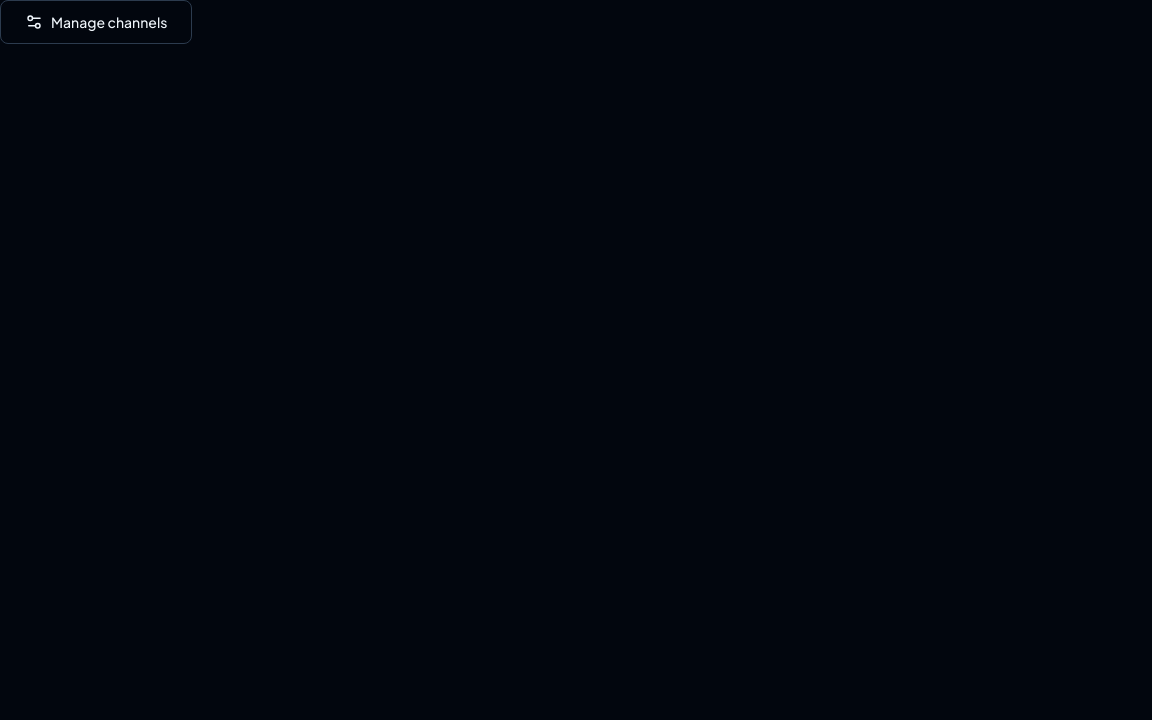
Test: admin community channel management › edits an existing channel without navigating until Open channel is chosen
Later steps or results of the test are not shown.
Step 1. Click the button "Manage channels" → (96, 22), box [0,0,192,44]
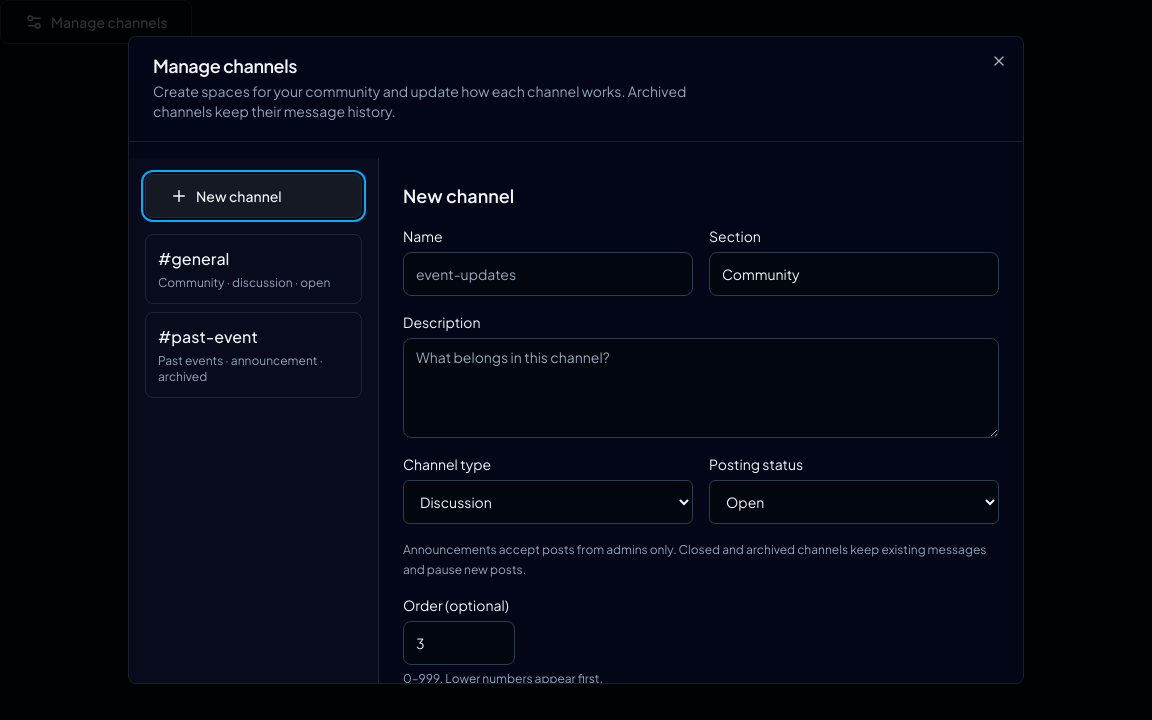
Step 2. Click the button with aria-label "Edit #general" → (254, 269), box [145,234,362,304]
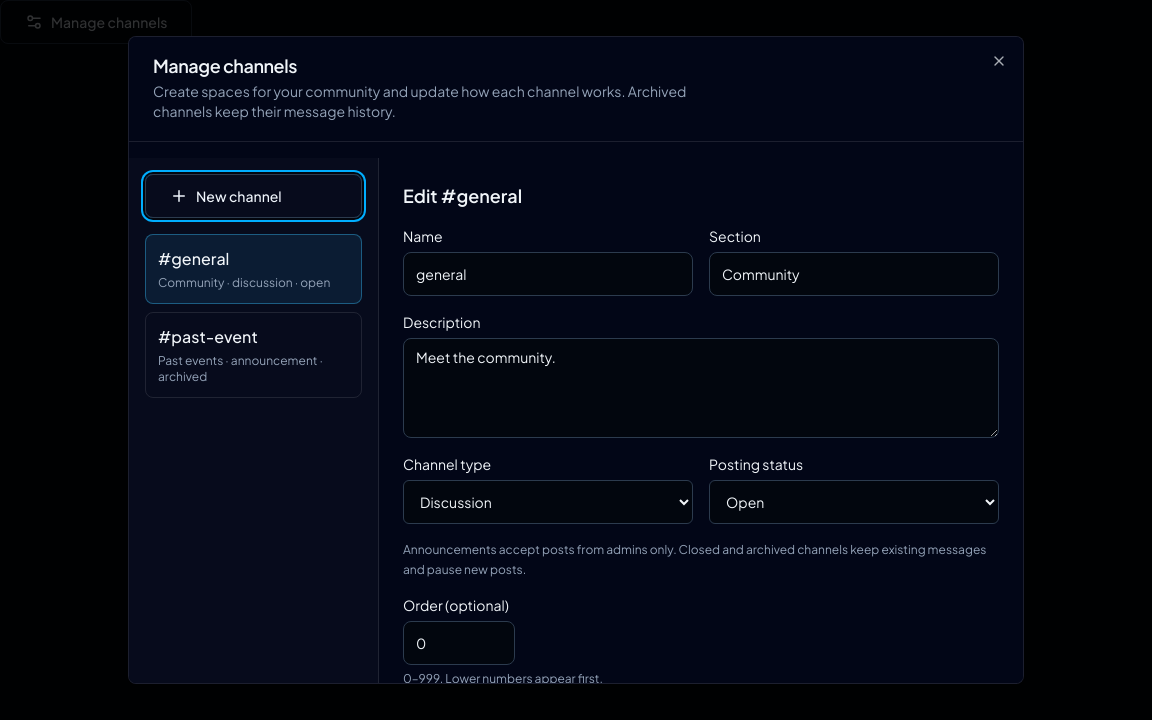
Check: the text box labelled "Description" holds "Meet the community.", box [403,338,999,438]
Step 3. Select "Archived" in the dropdown labelled "Posting status" → (854, 502), box [709,480,999,524]
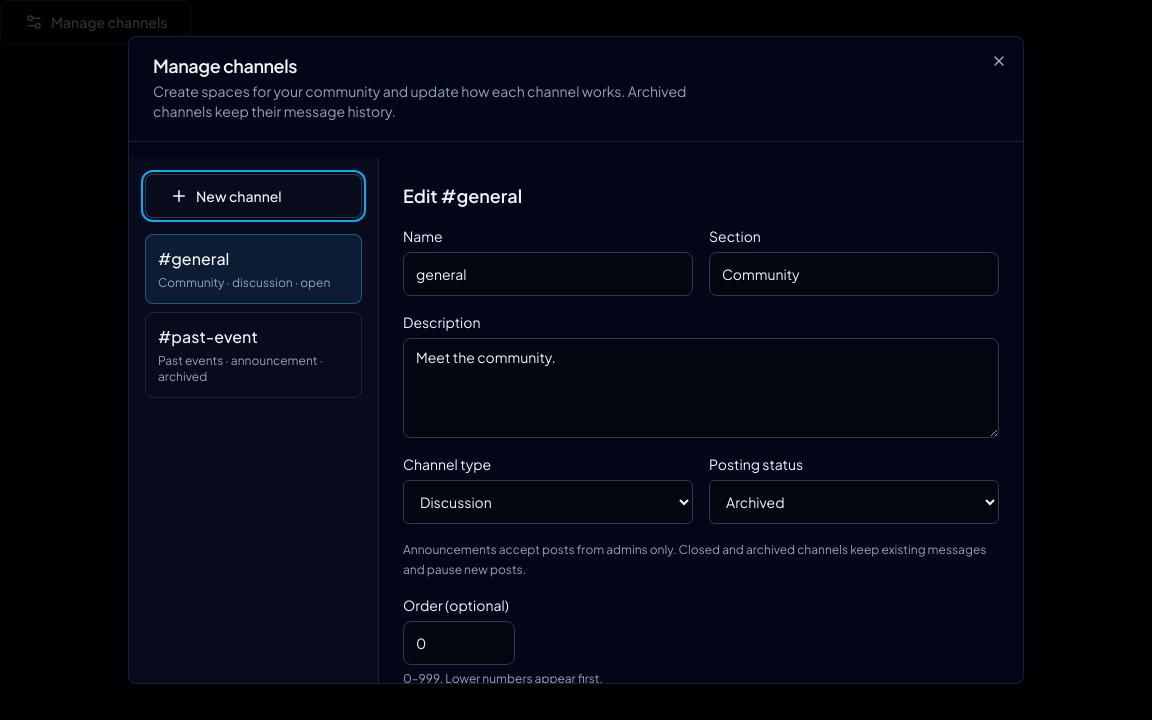
Step 4. Select "Announcement" in the dropdown labelled "Channel type" → (548, 502), box [403,480,693,524]
(page scrolled)
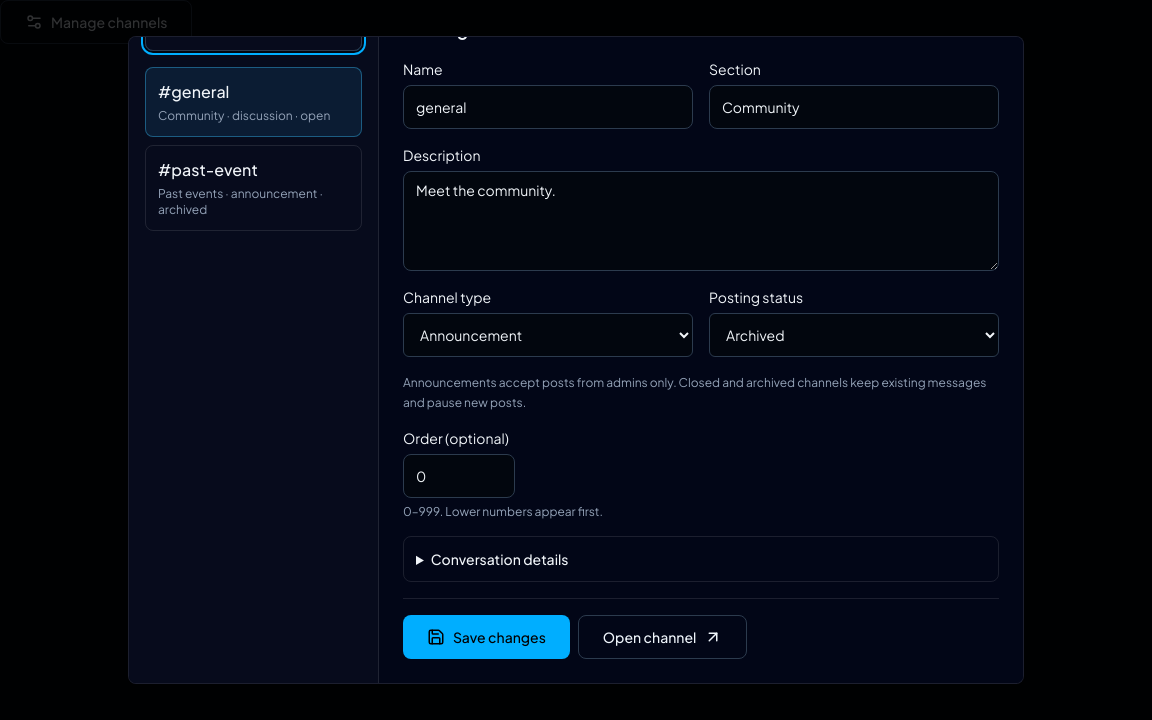
Step 5. Click the button "Save changes" → (486, 637), box [403,615,570,659]
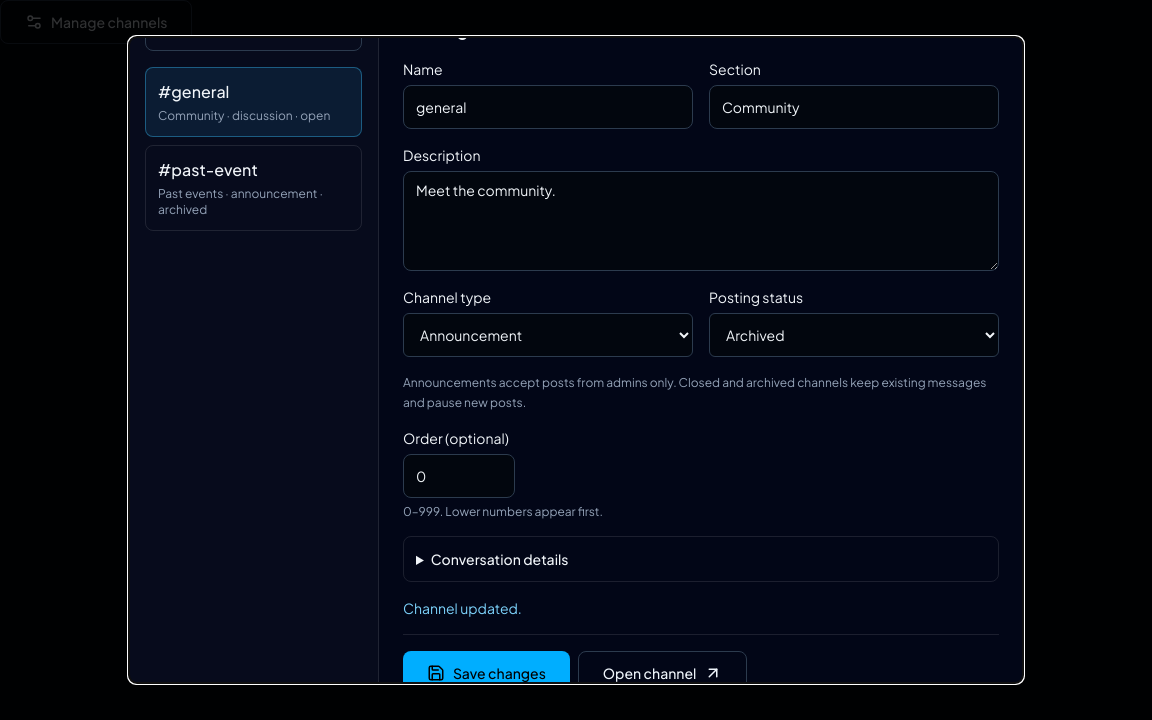
Check: the message reads "Channel updated.", box [403,599,522,617]
